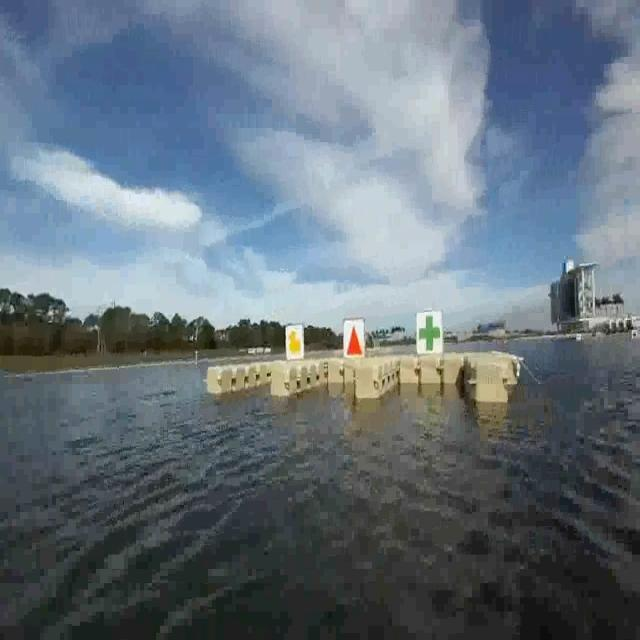blue-cross: (417, 313, 444, 357)
red-dot: (345, 323, 364, 358)
yellow-duck: (285, 327, 304, 360)
